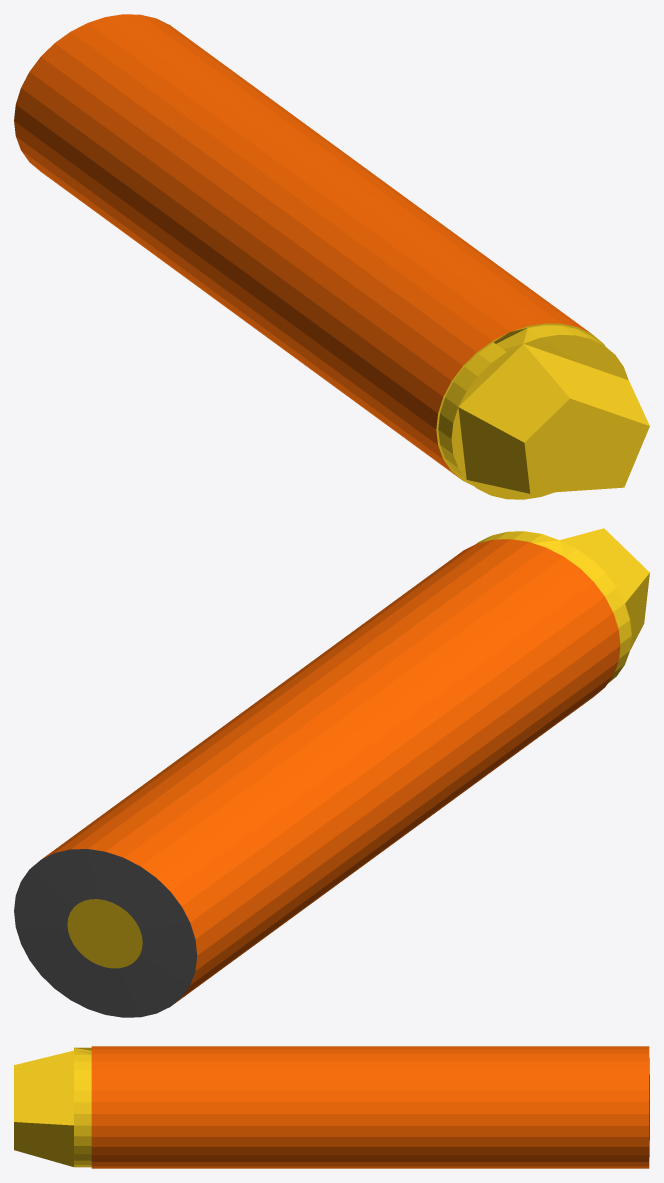
Rendered from Bullet.obj.
3 renders of one model, top to bottom at view 1: azimuth 30°, elevation 25°; view 2: azimuth 150°, elevation 25°; view 3: azimuth 270°, elevation 25°, orthographic. The views are drawn at different scales.
Bounding box in the file's own units: 0.1 × 0.0851 × 0.4562.
